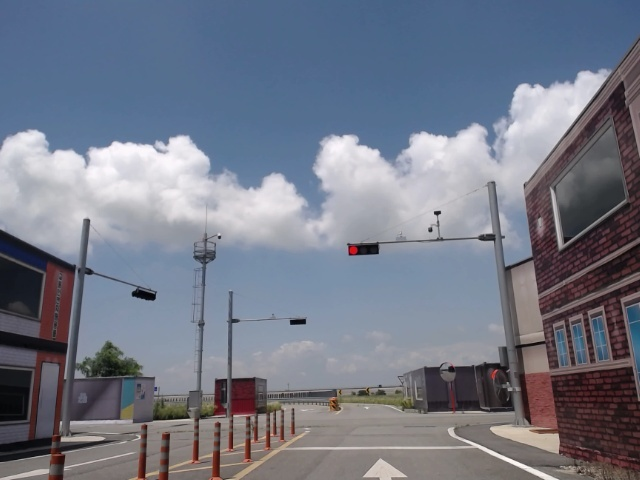red_3: (348, 245, 379, 255)
